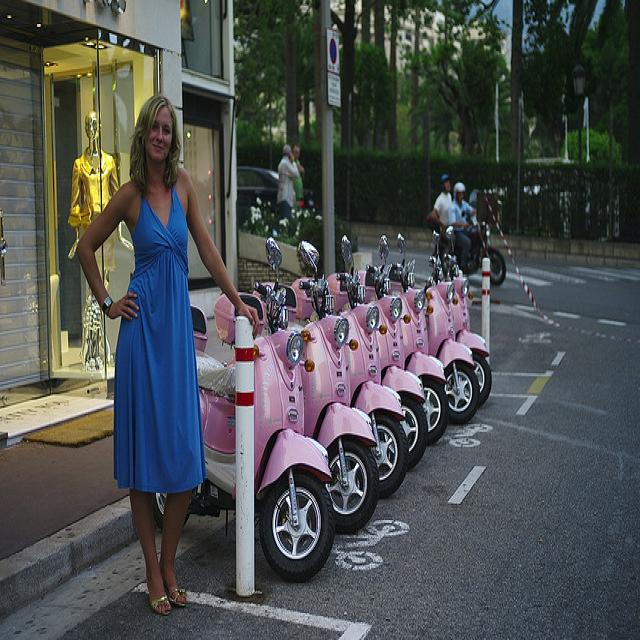motor: (153, 304, 337, 582), (211, 240, 379, 536), (328, 226, 406, 495), (361, 235, 429, 471), (398, 238, 476, 414), (395, 288, 450, 445), (465, 223, 506, 285), (453, 278, 487, 350)
